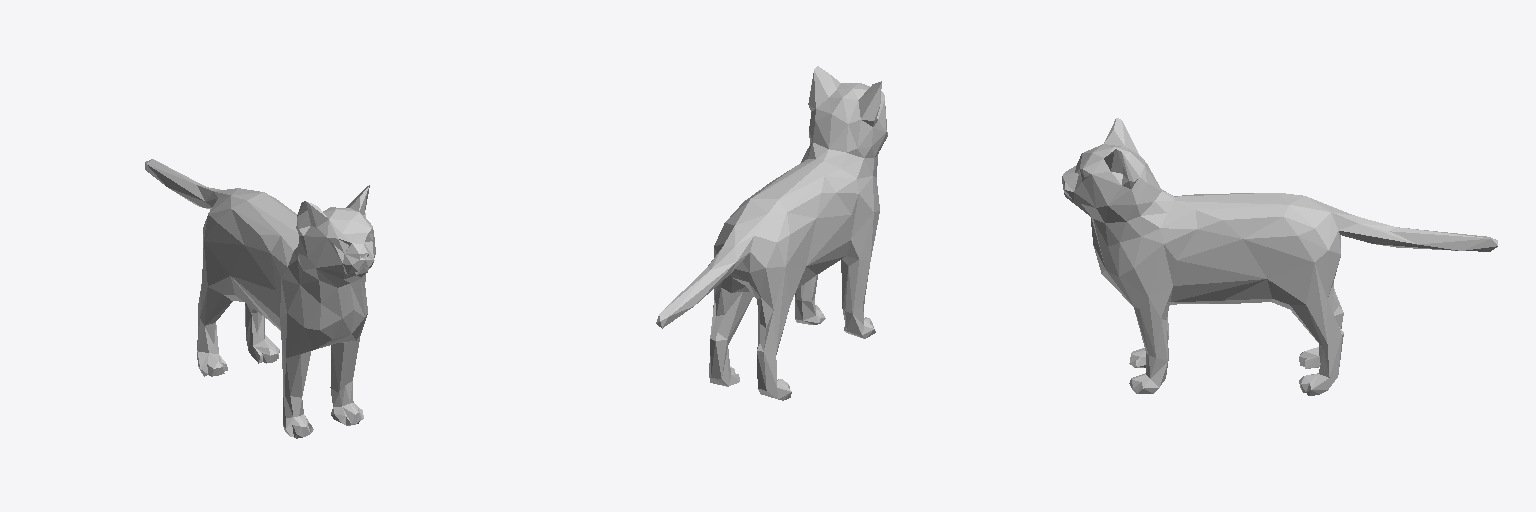
The model's file is cat_l.obj.
The picture shows the model from 3 angles: view 1: azimuth 30°, elevation 25°; view 2: azimuth 150°, elevation 25°; view 3: azimuth 270°, elevation 25°; orthographic projection.
Parts seen in each view (by area): view 1: 12221_Cat_v1_l3.001; view 2: 12221_Cat_v1_l3.001; view 3: 12221_Cat_v1_l3.001.
Boxes of the visible parts, box(x1,y1,x2,y2) form: 12221_Cat_v1_l3.001: box(145, 159, 375, 438); 12221_Cat_v1_l3.001: box(656, 66, 887, 400); 12221_Cat_v1_l3.001: box(1062, 118, 1497, 395).
Size of the model in its own units: 0.6387 by 1.89 by 3.04.